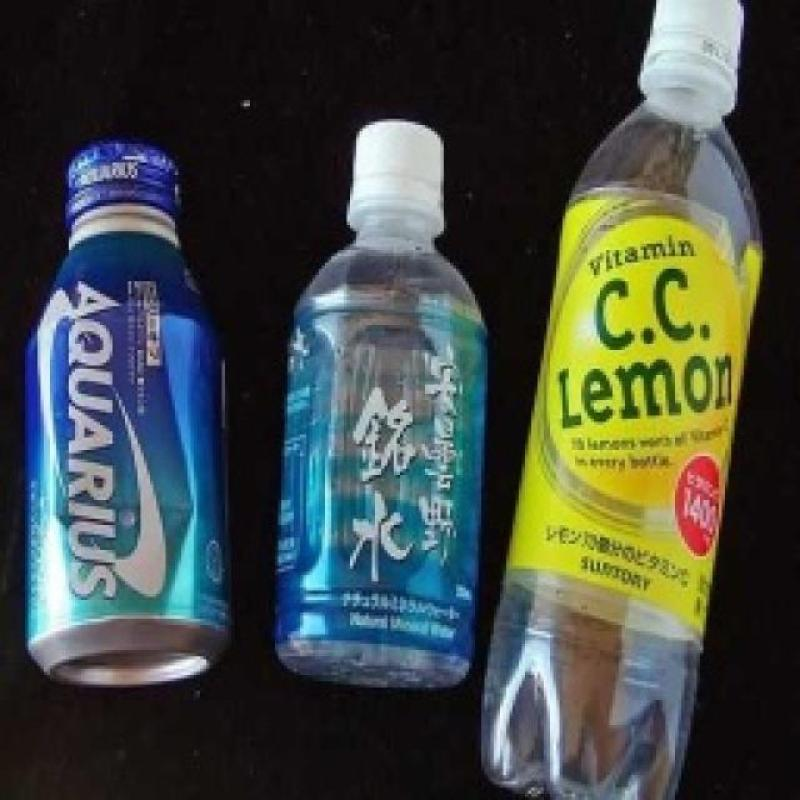botella: (484, 0, 768, 800), (277, 122, 483, 701)
